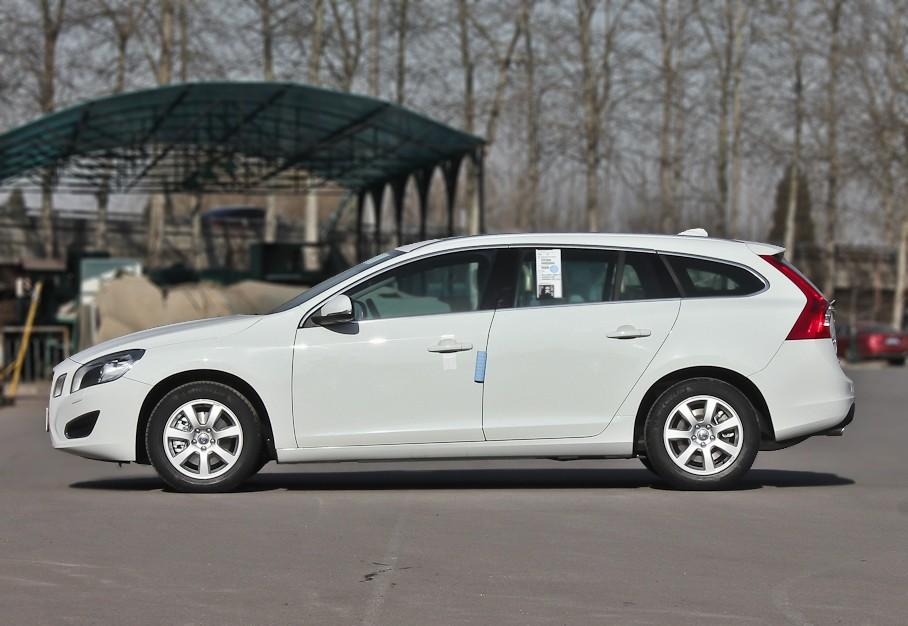Wagon: (46, 227, 857, 494)
